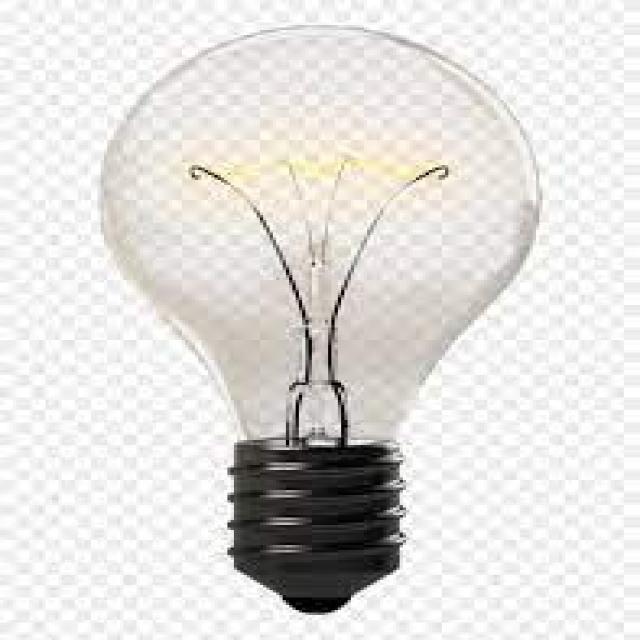bulb_on: (100, 23, 542, 610)
